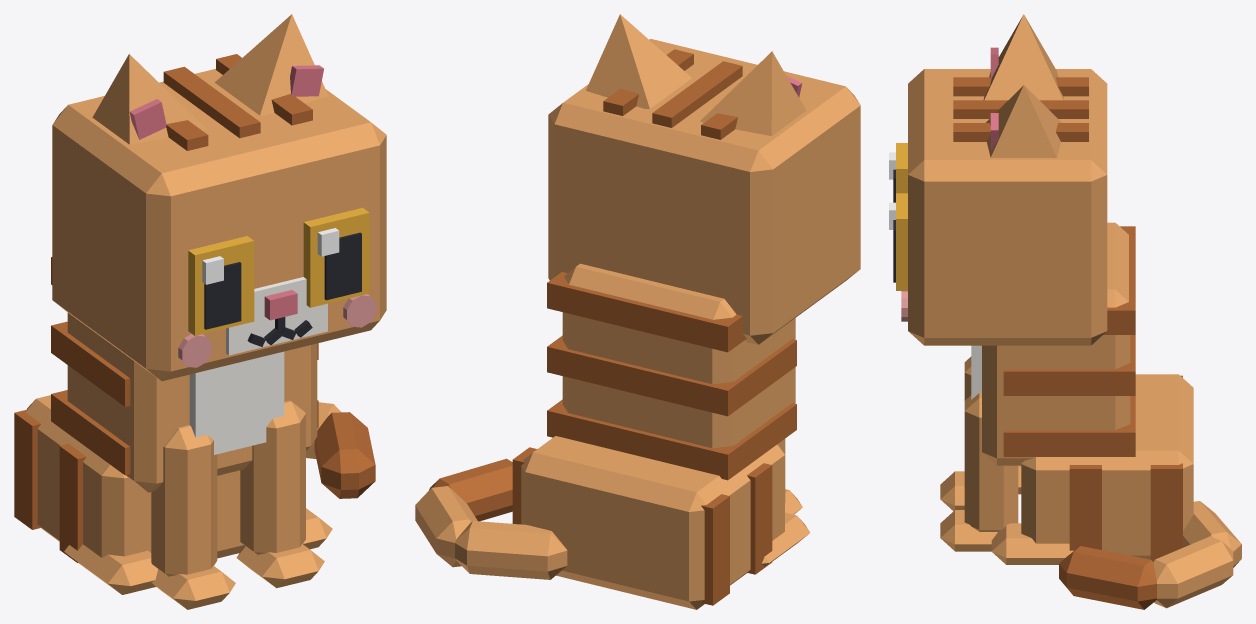
File: CleanACat_Cat_Muffin_Sit.fbx
3 renders of one model, left to right at view 1: azimuth 30°, elevation 25°; view 2: azimuth 150°, elevation 25°; view 3: azimuth 270°, elevation 25°, orthographic. The views are drawn at different scales.
Parts seen in each view (by area): view 1: CleanACat_Cat_Muffin_Sit_Head, CleanACat_Cat_Muffin_Sit_Body, CleanACat_Cat_Muffin_Sit_LegF2, CleanACat_Cat_Muffin_Sit_LegF1, CleanACat_Cat_Muffin_Sit_EarL, CleanACat_Cat_Muffin_Sit_Eye2, CleanACat_Cat_Muffin_Sit_Eye1, CleanACat_Cat_Muffin_Sit_EarR, CleanACat_Cat_Muffin_Sit_Tail; view 2: CleanACat_Cat_Muffin_Sit_Body, CleanACat_Cat_Muffin_Sit_Head, CleanACat_Cat_Muffin_Sit_Tail, CleanACat_Cat_Muffin_Sit_EarL, CleanACat_Cat_Muffin_Sit_EarR; view 3: CleanACat_Cat_Muffin_Sit_Head, CleanACat_Cat_Muffin_Sit_Body, CleanACat_Cat_Muffin_Sit_Tail, CleanACat_Cat_Muffin_Sit_LegF1, CleanACat_Cat_Muffin_Sit_EarR, CleanACat_Cat_Muffin_Sit_EarL, CleanACat_Cat_Muffin_Sit_Eye1, CleanACat_Cat_Muffin_Sit_LegF2, CleanACat_Cat_Muffin_Sit_Eye2.
Part boxes in pixels (x1,y1,x2,y2): CleanACat_Cat_Muffin_Sit_Head: [52, 54, 386, 381]; CleanACat_Cat_Muffin_Sit_Body: [14, 257, 332, 594]; CleanACat_Cat_Muffin_Sit_LegF2: [151, 425, 235, 609]; CleanACat_Cat_Muffin_Sit_LegF1: [236, 400, 324, 588]; CleanACat_Cat_Muffin_Sit_EarL: [215, 14, 328, 115]; CleanACat_Cat_Muffin_Sit_Eye2: [188, 236, 254, 335]; CleanACat_Cat_Muffin_Sit_Eye1: [303, 207, 369, 307]; CleanACat_Cat_Muffin_Sit_EarR: [92, 54, 206, 144]; CleanACat_Cat_Muffin_Sit_Tail: [306, 402, 375, 498]; CleanACat_Cat_Muffin_Sit_Body: [512, 263, 809, 609]; CleanACat_Cat_Muffin_Sit_Head: [548, 38, 860, 344]; CleanACat_Cat_Muffin_Sit_Tail: [415, 458, 567, 579]; CleanACat_Cat_Muffin_Sit_EarL: [586, 14, 691, 108]; CleanACat_Cat_Muffin_Sit_EarR: [700, 51, 806, 135]; CleanACat_Cat_Muffin_Sit_Head: [901, 69, 1107, 345]; CleanACat_Cat_Muffin_Sit_Body: [971, 222, 1193, 564]; CleanACat_Cat_Muffin_Sit_Tail: [1059, 501, 1241, 609]; CleanACat_Cat_Muffin_Sit_LegF1: [940, 392, 1018, 551]; CleanACat_Cat_Muffin_Sit_EarR: [983, 14, 1063, 100]; CleanACat_Cat_Muffin_Sit_EarL: [986, 85, 1061, 157]; CleanACat_Cat_Muffin_Sit_Eye1: [889, 193, 907, 290]; CleanACat_Cat_Muffin_Sit_LegF2: [940, 356, 971, 510]; CleanACat_Cat_Muffin_Sit_Eye2: [889, 143, 907, 202].
Bounding box in the file's own units: 1.24 × 1.85 × 1.24.
1 material, 1 textured.
